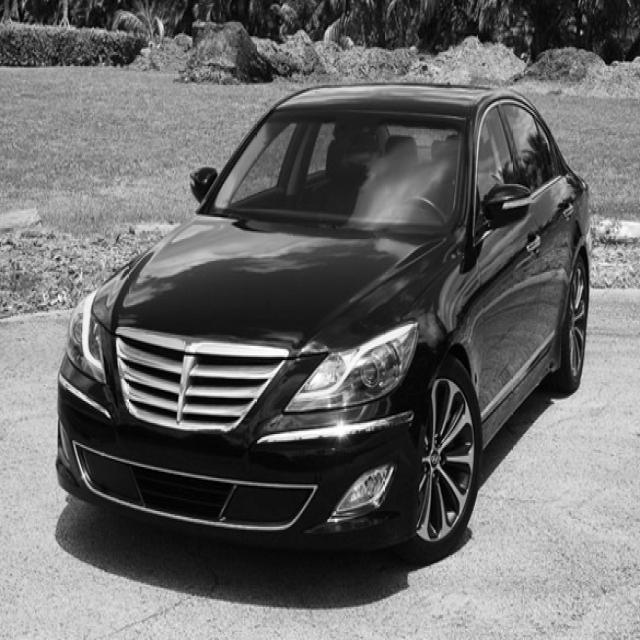car: (55, 82, 592, 563)
